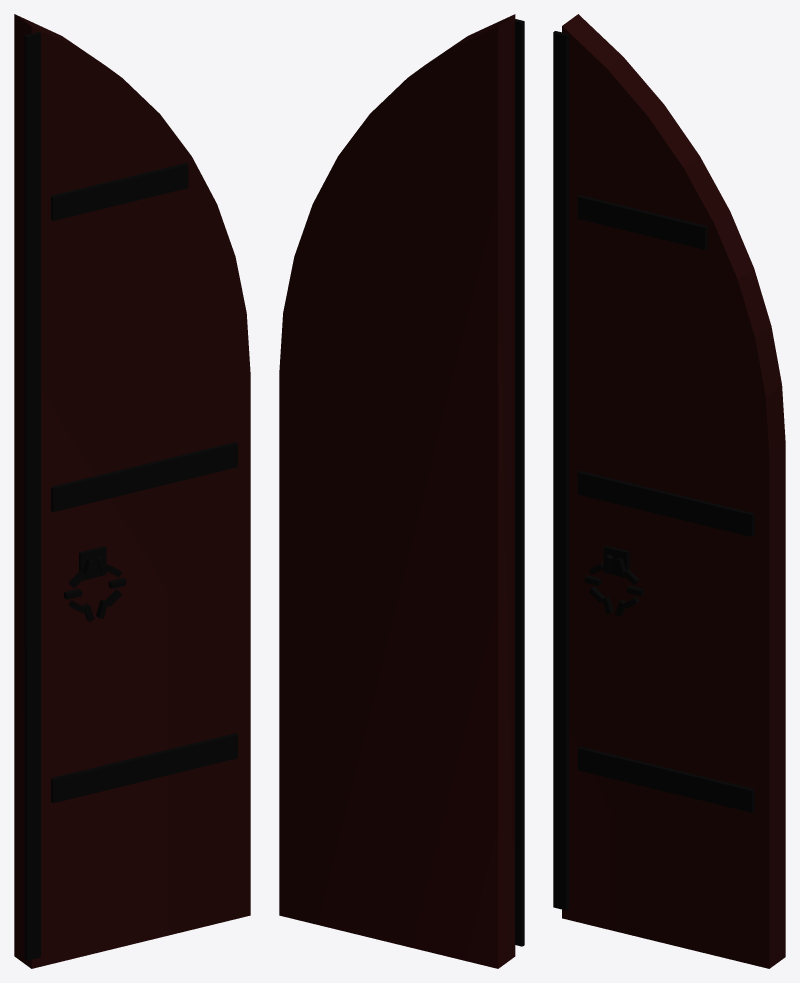
Rendered from SilverbrookNorthridgeHouse6_Door2.fbx.
3 renders of one model, left to right at view 1: azimuth 30°, elevation 25°; view 2: azimuth 150°, elevation 25°; view 3: azimuth 330°, elevation 25°, orthographic. The views are drawn at different scales.
Parts seen in each view (by area): view 1: SM_SBNorthridgeHouse6_Door2_Part; view 2: SM_SBNorthridgeHouse6_Door2_Part; view 3: SM_SBNorthridgeHouse6_Door2_Part.
Boxes of the visible parts, left/top/right/bottom form: SM_SBNorthridgeHouse6_Door2_Part: left=14, top=14, right=250, bottom=968; SM_SBNorthridgeHouse6_Door2_Part: left=279, top=14, right=524, bottom=968; SM_SBNorthridgeHouse6_Door2_Part: left=553, top=14, right=785, bottom=968.
Bounding box in the file's own units: 61 × 243 × 10.7.
